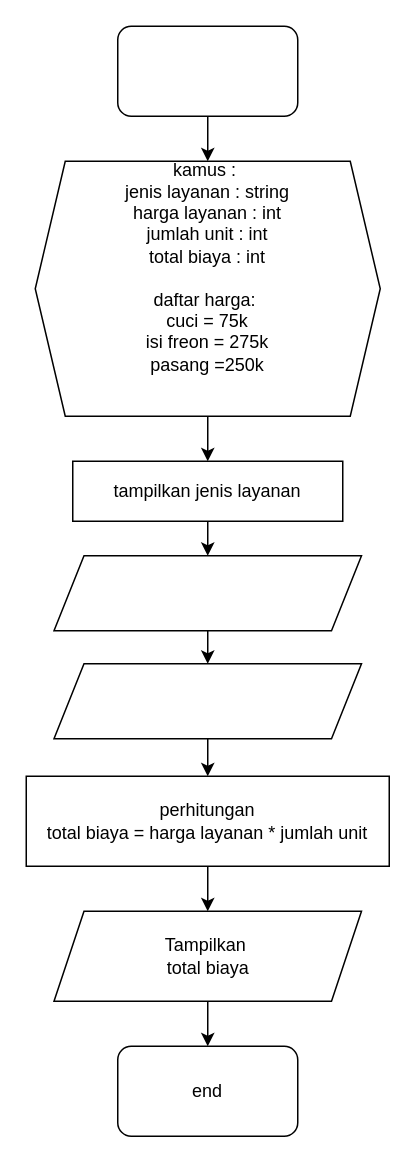
The diagram is 416 pixels wide and 1163 high, and some of its shapes have lost their labels. Here are the shapes that lost their labels. From the top down, the box of each, then its label:
(116, 25, 298, 116): start
(52, 554, 362, 631): pilih jenis layanan
(52, 662, 362, 739): masukan jumlah unit
